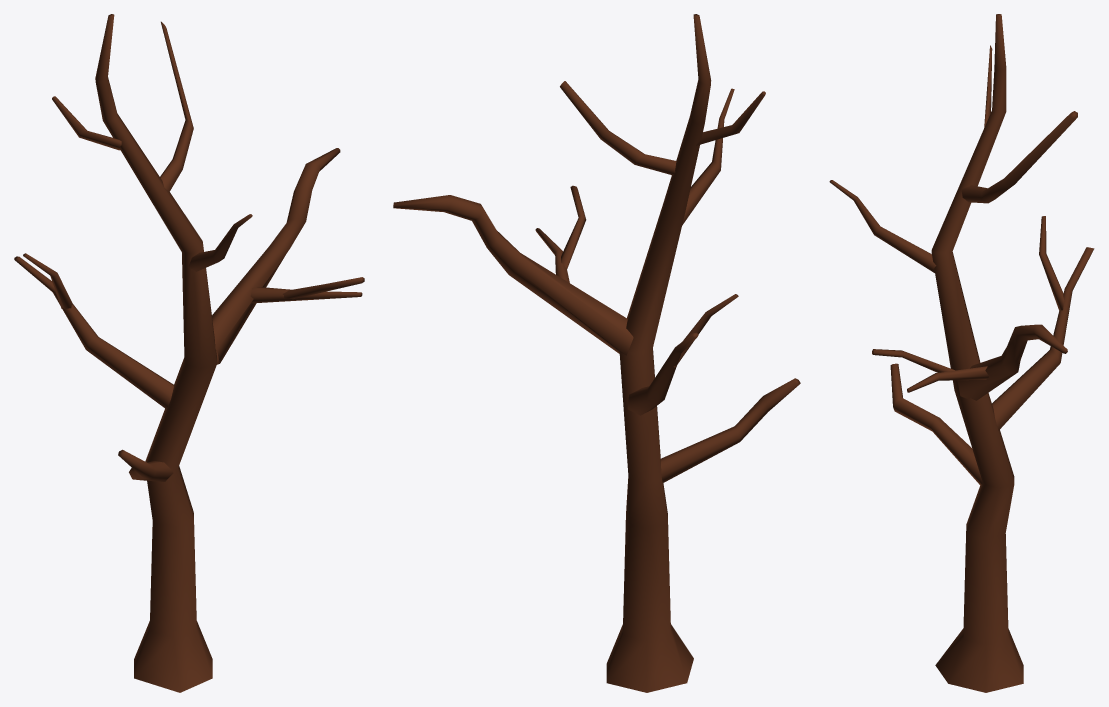
File: shu-2.FBX
The picture shows the model from 3 angles, left to right: view 1: azimuth 30°, elevation 25°; view 2: azimuth 150°, elevation 25°; view 3: azimuth 270°, elevation 25°; orthographic projection. The views are drawn at different scales.
Visible parts, largest first — view 1: Tree; view 2: Tree; view 3: Tree.
Boxes of the visible parts, left/top/right/bottom form: Tree: left=14, top=14, right=364, bottom=692; Tree: left=393, top=14, right=800, bottom=692; Tree: left=829, top=14, right=1094, bottom=692.
Size of the model in its own units: 2.33 by 4.51 by 1.71.
